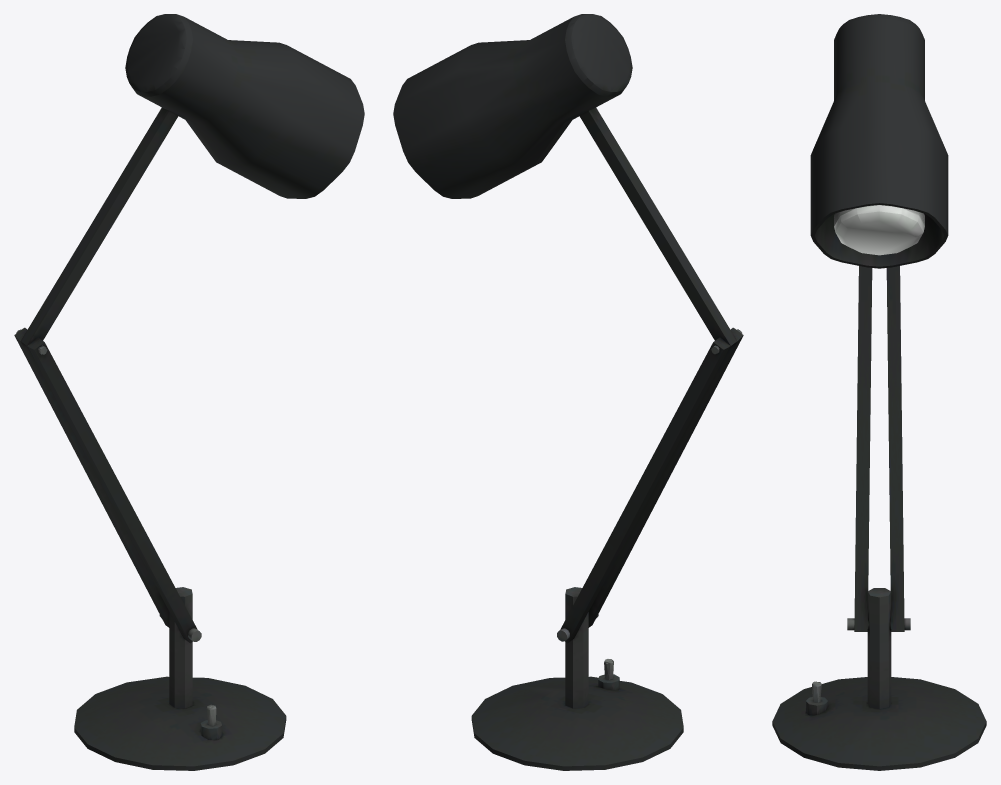
Rendered from Office_lamp_1970.obj.
The picture shows the model from 3 angles, left to right: view 1: azimuth 30°, elevation 25°; view 2: azimuth 150°, elevation 25°; view 3: azimuth 270°, elevation 25°; orthographic projection.
Parts seen in each view (by area): view 1: g0; view 2: g0; view 3: g0.
Part boxes in pixels (box(x1,y1,x2,y2)): g0: box(14, 14, 364, 770); g0: box(393, 14, 743, 770); g0: box(772, 14, 986, 770).
Size of the model in its own units: 0.269 by 0.5584 by 0.1524.
1 material, 1 textured.
